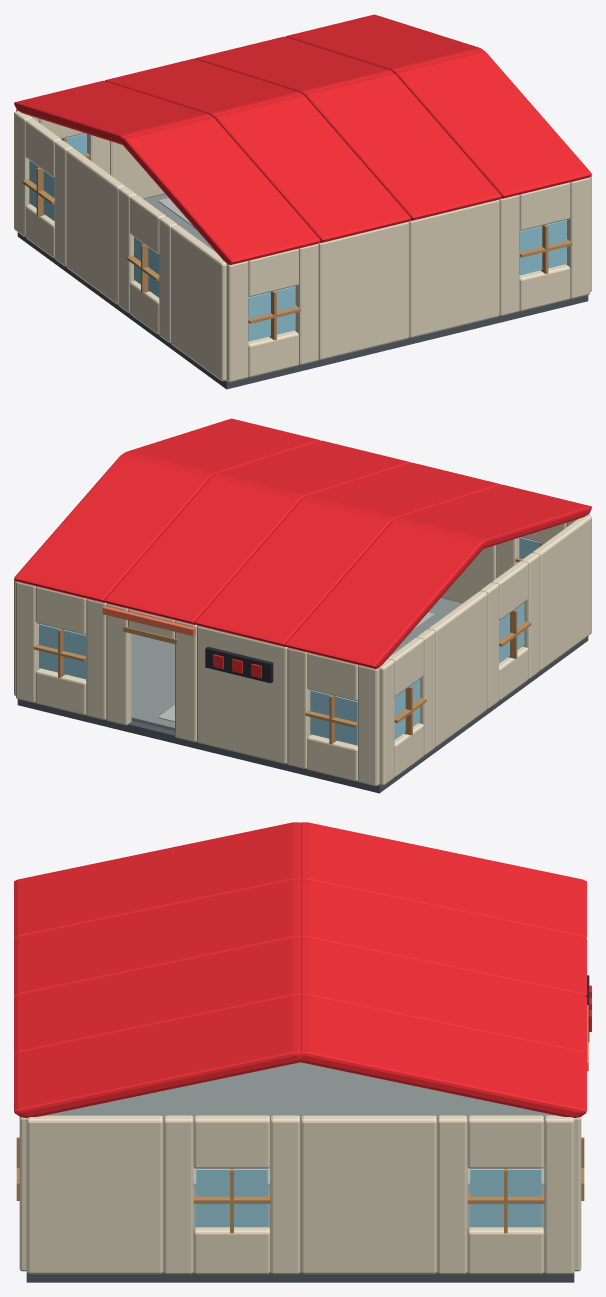
File: RedKitchen.glb
3 views of the same model, one above another, from view 1: azimuth 30°, elevation 25°; view 2: azimuth 150°, elevation 25°; view 3: azimuth 270°, elevation 25° (orthographic). The views are drawn at different scales.
Visible parts, largest first — view 1: FTF_Building_TeamKitchen_Red_8x8m_StaticMesh; view 2: FTF_Building_TeamKitchen_Red_8x8m_StaticMesh; view 3: FTF_Building_TeamKitchen_Red_8x8m_StaticMesh.
Boxes of the visible parts, x1,y1,x2,y2 form: FTF_Building_TeamKitchen_Red_8x8m_StaticMesh: [14, 14, 591, 389]; FTF_Building_TeamKitchen_Red_8x8m_StaticMesh: [14, 418, 591, 793]; FTF_Building_TeamKitchen_Red_8x8m_StaticMesh: [14, 822, 591, 1282].
Bounding box in the file's own units: 8.29 × 3.71 × 8.44.
